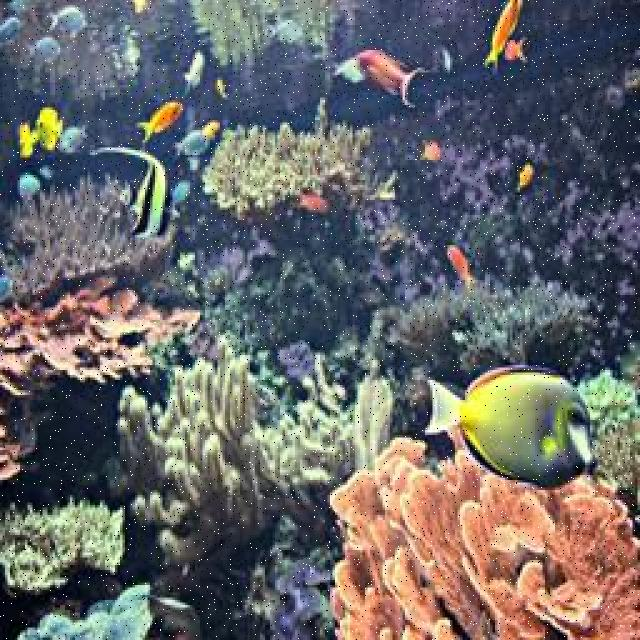fish: (425, 365, 598, 488), (93, 147, 183, 238), (357, 51, 429, 106), (138, 594, 201, 638), (486, 0, 522, 69), (137, 102, 184, 142), (447, 246, 481, 293), (49, 7, 90, 41), (31, 109, 64, 151), (183, 51, 205, 96), (174, 130, 208, 157), (24, 38, 62, 62), (269, 20, 304, 45), (62, 122, 89, 153), (295, 194, 329, 213), (17, 175, 41, 201), (1, 18, 23, 44), (506, 36, 528, 61), (519, 163, 533, 190)
reefs: (331, 435, 638, 638), (115, 346, 391, 564), (0, 275, 205, 478), (0, 174, 174, 311), (202, 101, 398, 219), (0, 495, 126, 590)
